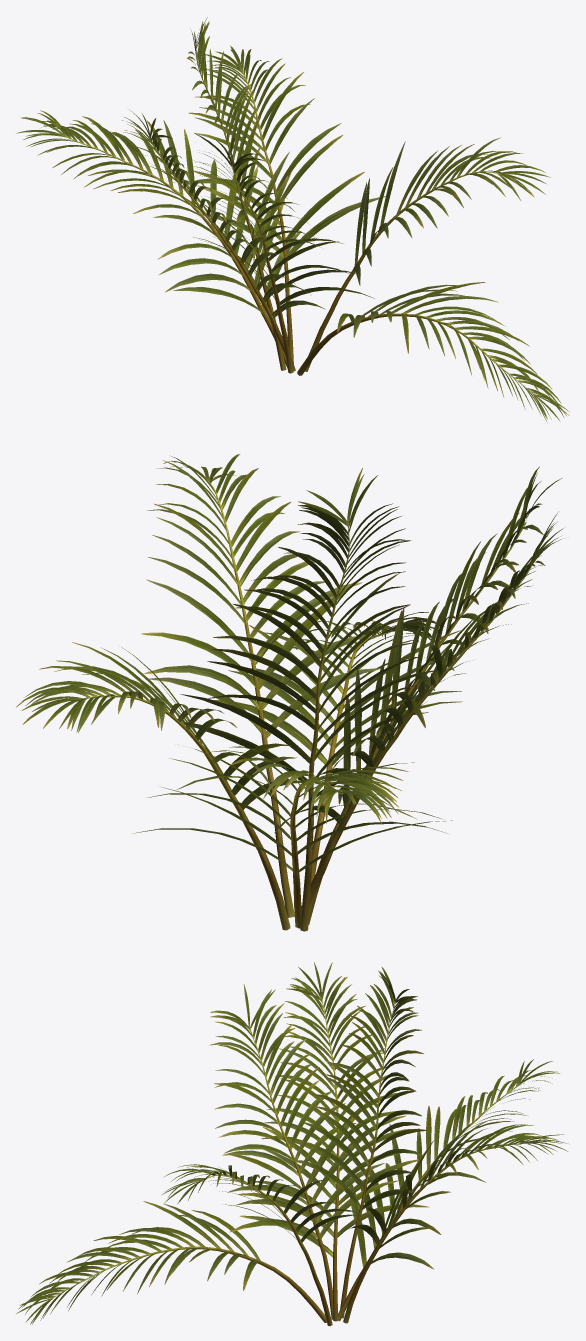
The model's file is Palm_01.obj.
The picture shows the model from 3 angles, top to bottom: view 1: azimuth 30°, elevation 25°; view 2: azimuth 150°, elevation 25°; view 3: azimuth 270°, elevation 25°; orthographic projection. The views are drawn at different scales.
Parts seen in each view (by area): view 1: Palm_01; view 2: Palm_01; view 3: Palm_01.
Part boxes in pixels (<box>): Palm_01: <box>16,17,569,423</box>; Palm_01: <box>16,454,565,931</box>; Palm_01: <box>16,962,569,1326</box>.
Size of the model in its own units: 16.34 by 15.62 by 24.58.
2 materials, 2 textured.
